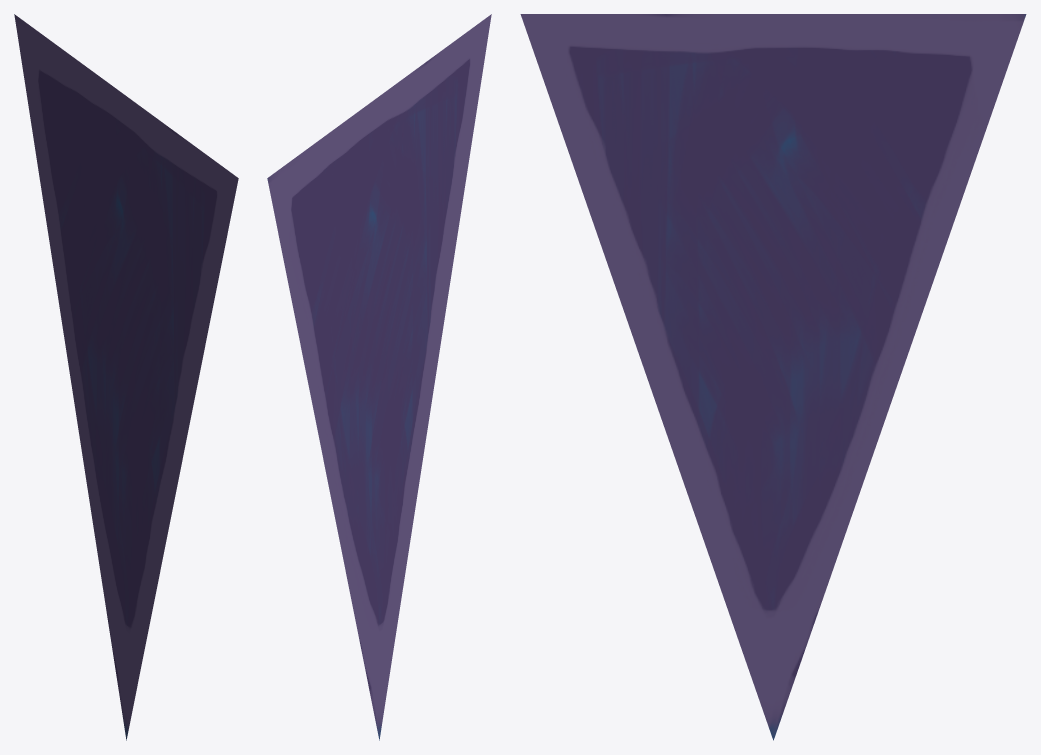
The model's file is SM_Flag_01.fbx.
3 views of the same model, side by side, from view 1: azimuth 30°, elevation 25°; view 2: azimuth 150°, elevation 25°; view 3: azimuth 270°, elevation 25° (orthographic). The views are drawn at different scales.
Visible parts, largest first — view 1: SM_Flag_01_LOD0; view 2: SM_Flag_01_LOD0; view 3: SM_Flag_01_LOD0.
Part boxes in pixels (bbox=[...]): SM_Flag_01_LOD0: bbox=[14, 14, 238, 740]; SM_Flag_01_LOD0: bbox=[267, 14, 491, 740]; SM_Flag_01_LOD0: bbox=[520, 14, 1026, 740].
Size of the model in its own units: 1.48e-05 by 105 by 167.
1 material, 1 textured.
